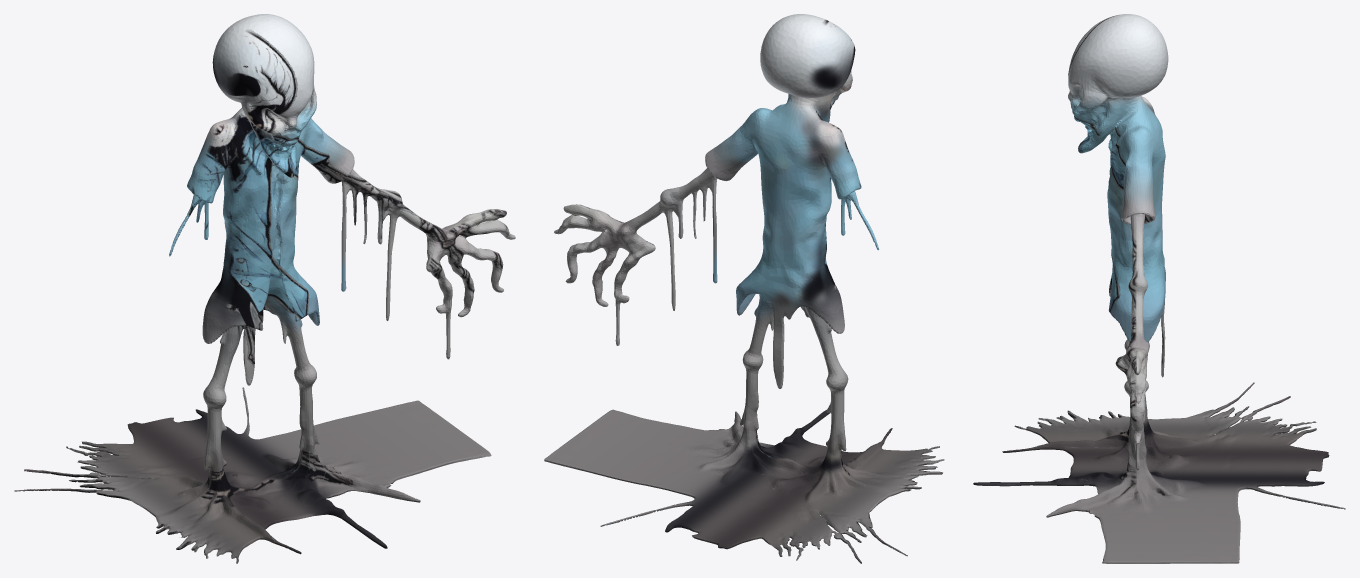
The model's file is mop_wight_local.glb.
3 renders of one model, left to right at view 1: azimuth 30°, elevation 25°; view 2: azimuth 150°, elevation 25°; view 3: azimuth 270°, elevation 25°, orthographic. The views are drawn at different scales.
Parts seen in each view (by area): view 1: geometry_0; view 2: geometry_0; view 3: geometry_0.
Boxes of the visible parts, bbox=[...] form: geometry_0: bbox=[14, 14, 515, 563]; geometry_0: bbox=[544, 14, 944, 563]; geometry_0: bbox=[973, 14, 1345, 563].
Size of the model in its own units: 1.77 by 1.85 by 1.4.
1 material, 1 textured.
